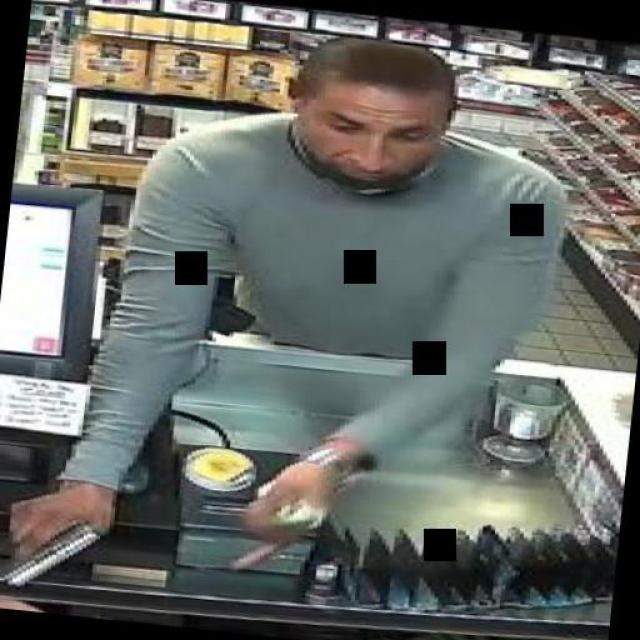gun: (0, 489, 104, 595)
